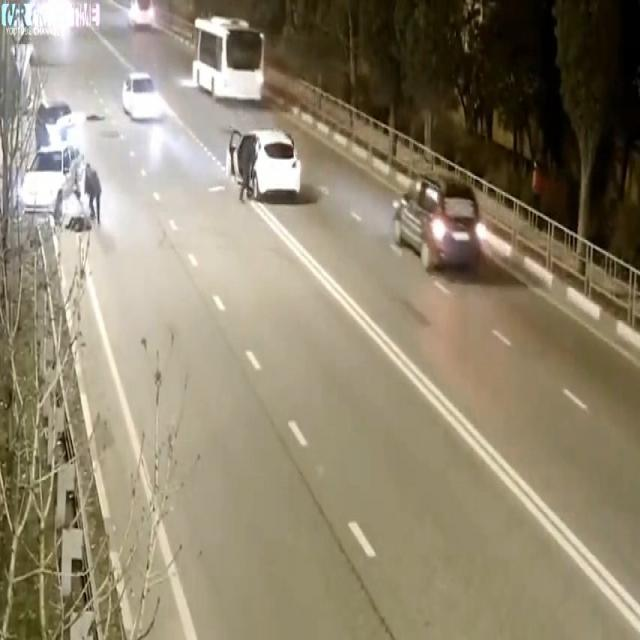Accident: (15, 98, 94, 267)
